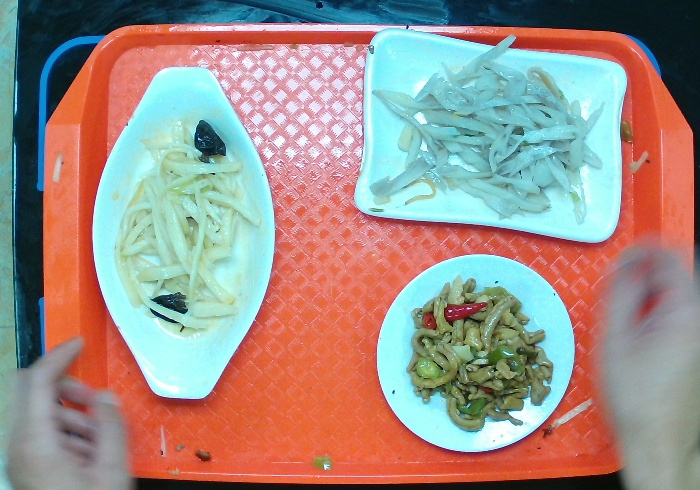RJxy-Si_Fang_Ao_Bian_Wan: (354, 28, 632, 246)
RJxy-Xiao_Yuan_Die: (376, 254, 577, 454)
RJxy-Yu_Pan: (93, 60, 276, 400)
